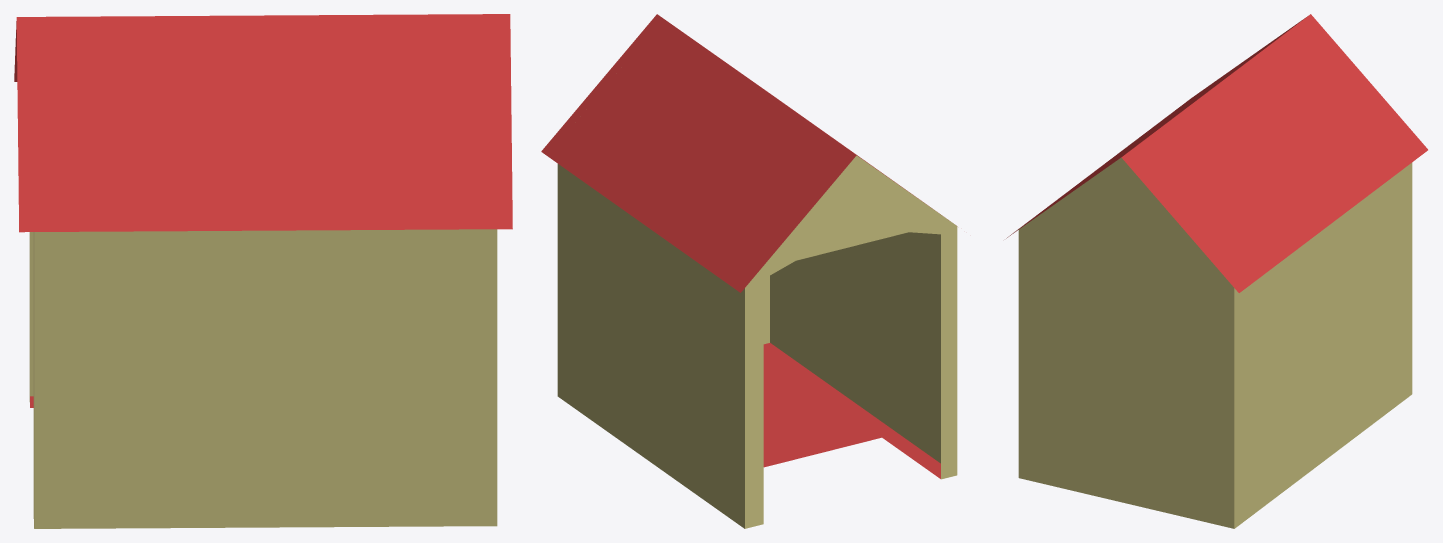
3 renders of one model, left to right at view 1: azimuth 30°, elevation 25°; view 2: azimuth 150°, elevation 25°; view 3: azimuth 270°, elevation 25°, orthographic. The views are drawn at different scales.
Bounding box in the file's own units: 19.66 × 17.77 × 16.13.
